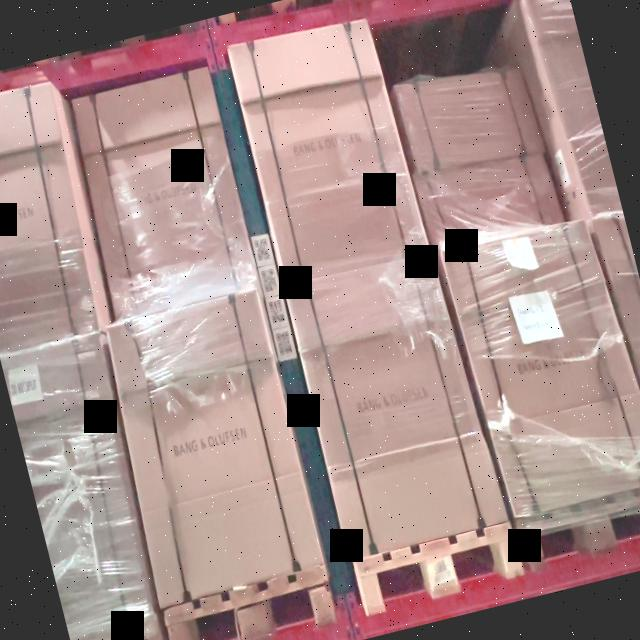box: (287, 254, 510, 558), (107, 293, 323, 604), (440, 218, 640, 518), (230, 15, 428, 287), (74, 71, 256, 318), (396, 69, 543, 170), (417, 158, 565, 241)
